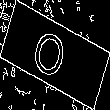O_S: (34, 24, 76, 86)
